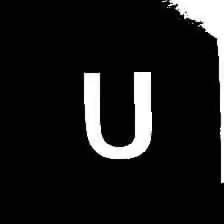LTR_U: (77, 59, 157, 165)
